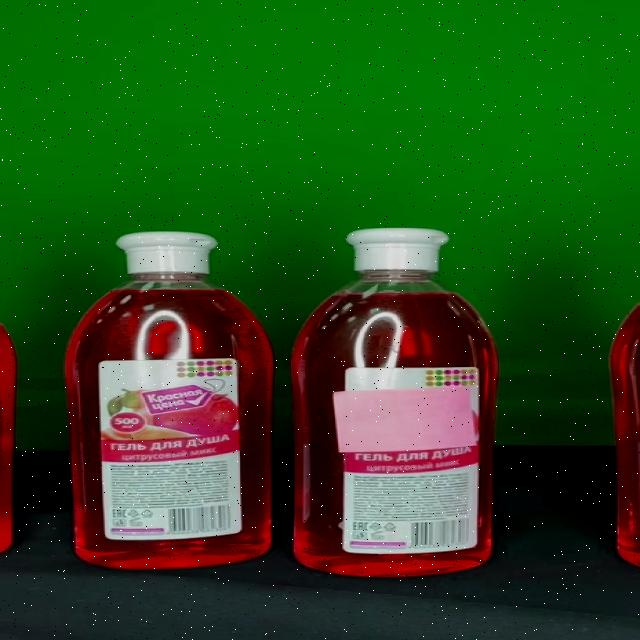Bottle: (289, 228, 496, 578), (65, 230, 274, 569)
Cap: (346, 228, 448, 271), (115, 232, 218, 274)
